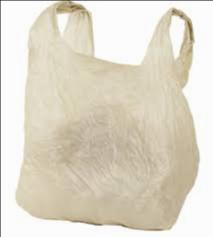Plastic: (14, 0, 200, 236)
